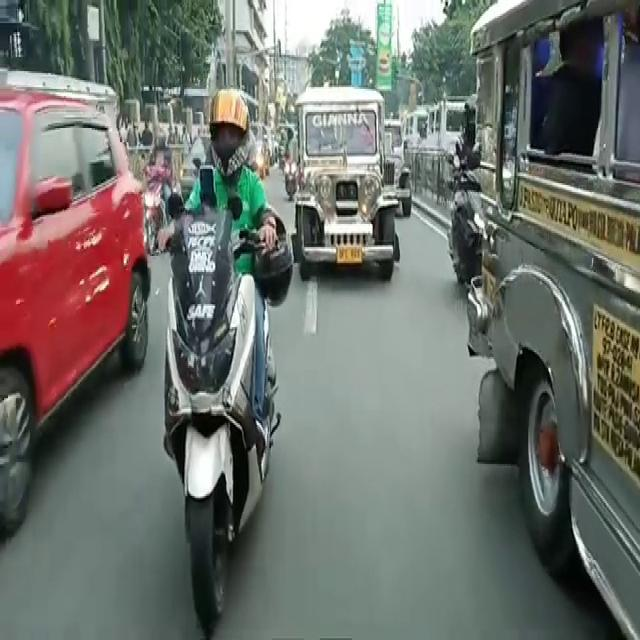car: (0, 94, 143, 502)
jeepney: (477, 18, 640, 629), (294, 87, 398, 287)
motorcycle: (152, 87, 292, 628)
